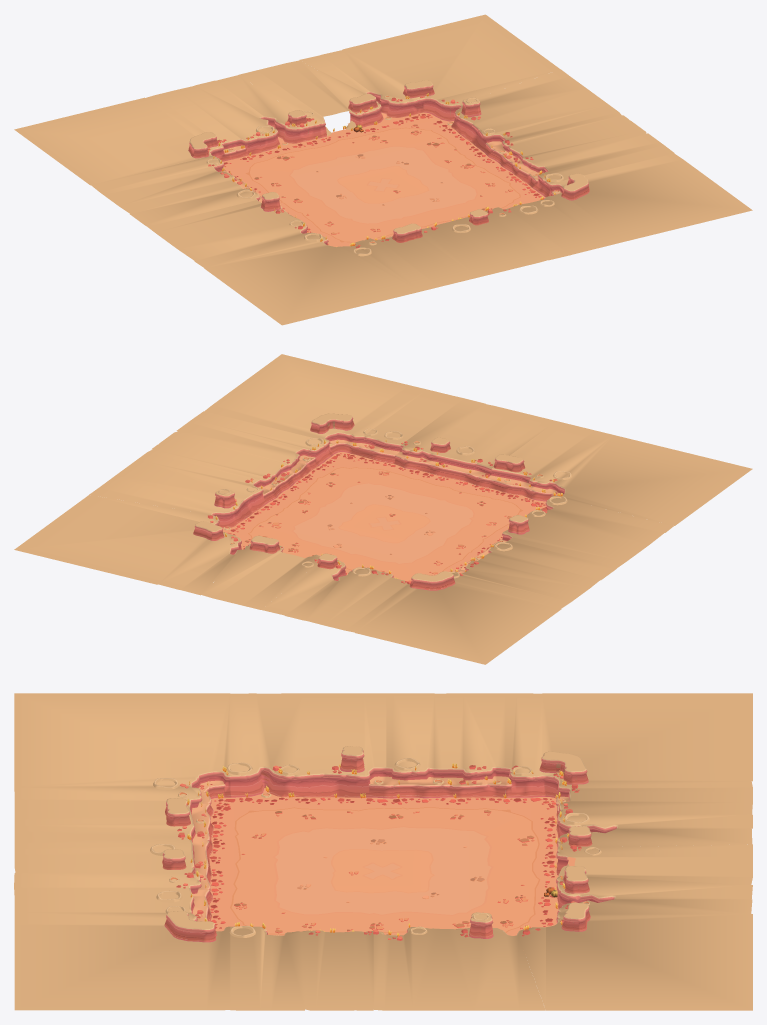
File: forest_graveyard.glb
The picture shows the model from 3 angles, top to bottom: view 1: azimuth 30°, elevation 25°; view 2: azimuth 150°, elevation 25°; view 3: azimuth 270°, elevation 25°; orthographic projection. The views are drawn at different scales.
Parts seen in each view (by area): view 1: bgr_canyon_showdown_ground_bgr_canyon.001_0, bgr_canyon_showdown_top_a, bgr_canyon_showdown_bottom_a, bgr_canyon_showdown_bottom_c, bgr_canyon_showdown_top_c, bgr_canyon_showdown_right_a, bgr_canyon_showdown_top_b, bgr_canyon_showdown_right_b, bgr_canyon_showdown_left_b, bgr_canyon_showdown_left_a, bgr_canyon_showdown_bottom_b; view 2: bgr_canyon_showdown_ground_bgr_canyon.001_0, bgr_canyon_showdown_bottom_a, bgr_canyon_showdown_top_a, bgr_canyon_showdown_bottom_c, bgr_canyon_showdown_top_c, bgr_canyon_showdown_right_a, bgr_canyon_showdown_bottom_b, bgr_canyon_showdown_right_b, bgr_canyon_showdown_top_b, bgr_canyon_showdown_left_b, bgr_canyon_showdown_left_a; view 3: bgr_canyon_showdown_ground_bgr_canyon.001_0, bgr_canyon_showdown_bottom_a, bgr_canyon_showdown_top_a, bgr_canyon_showdown_bottom_c, bgr_canyon_showdown_top_c, bgr_canyon_showdown_left_a, bgr_canyon_showdown_left_b, bgr_canyon_showdown_right_a, bgr_canyon_showdown_top_b, bgr_canyon_showdown_bottom_b, bgr_canyon_showdown_right_b, bgr_canyon_showdown_left_a_props (+2 smaller).
Part boxes in pixels (x1,y1,x2,y2): bgr_canyon_showdown_ground_bgr_canyon.001_0: (222,112,545,246); bgr_canyon_showdown_top_a: (14,80,284,185); bgr_canyon_showdown_bottom_a: (204,223,477,325); bgr_canyon_showdown_bottom_c: (507,153,752,254); bgr_canyon_showdown_top_c: (320,14,560,118); bgr_canyon_showdown_right_a: (432,69,621,159); bgr_canyon_showdown_top_b: (215,55,383,143); bgr_canyon_showdown_right_b: (494,115,674,197); bgr_canyon_showdown_left_b: (147,192,325,267); bgr_canyon_showdown_left_a: (91,155,262,226); bgr_canyon_showdown_bottom_b: (421,207,570,277); bgr_canyon_showdown_ground_bgr_canyon.001_0: (222,452,546,581); bgr_canyon_showdown_bottom_a: (485,421,752,525); bgr_canyon_showdown_top_a: (285,567,561,664); bgr_canyon_showdown_bottom_c: (205,354,463,463); bgr_canyon_showdown_top_c: (14,495,241,589); bgr_canyon_showdown_right_a: (89,449,278,531); bgr_canyon_showdown_bottom_b: (394,398,556,487); bgr_canyon_showdown_right_b: (151,411,331,494); bgr_canyon_showdown_top_b: (180,535,346,615); bgr_canyon_showdown_left_b: (495,496,673,567); bgr_canyon_showdown_left_a: (452,541,617,608); bgr_canyon_showdown_ground_bgr_canyon.001_0: (209,788,575,935); bgr_canyon_showdown_bottom_a: (14,693,231,843); bgr_canyon_showdown_top_a: (539,693,752,837); bgr_canyon_showdown_bottom_c: (14,887,230,1010); bgr_canyon_showdown_top_c: (546,899,752,1010); bgr_canyon_showdown_left_a: (383,693,542,798); bgr_canyon_showdown_left_b: (230,693,386,798); bgr_canyon_showdown_right_a: (373,912,545,1010); bgr_canyon_showdown_top_b: (555,826,752,909); bgr_canyon_showdown_bottom_b: (14,825,212,905); bgr_canyon_showdown_right_b: (230,926,373,1010); bgr_canyon_showdown_left_a_props: (394,758,533,798).
Size of the model in its own units: 132 by 7.62 by 130.
7 materials, 7 textured.
